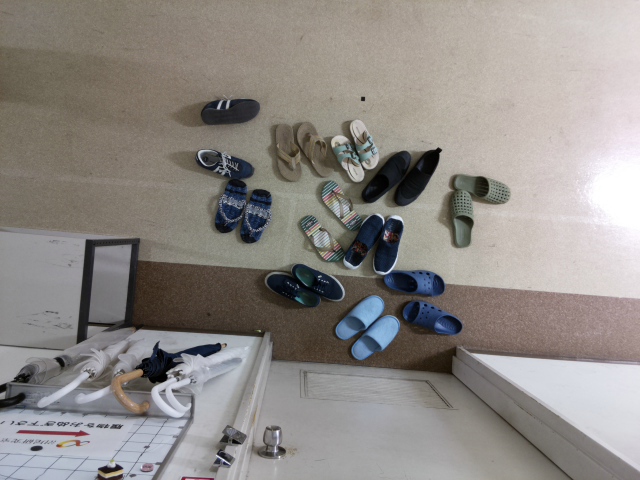Copy of Copy of Copy of Copy of Copy of Copy of Copy of sandal: (239, 188, 272, 243)
Copy of Copy of Copy of Copy of Copy of Copy of Copy of shoes: (264, 271, 319, 307)
Copy of Copy of Copy of Copy of Copy of Copy of sandal: (214, 179, 247, 233)
Copy of Copy of Copy of Copy of Copy of Copy of shoes: (290, 262, 346, 303)
Copy of Copy of Copy of Copy of Copy of sandal: (274, 123, 302, 180)
Copy of Copy of Copy of Copy of Copy of shoes: (342, 213, 385, 270)
Copy of Copy of Copy of Copy of Copy of slipper: (351, 314, 400, 360)
Copy of Copy of Copy of Copy of sandal: (295, 121, 334, 177)
Copy of Copy of Copy of Copy of shoes: (372, 213, 404, 275)
Copy of Copy of Copy of Copy of slipper: (334, 294, 384, 340)
Copy of Copy of Copy of sandal: (348, 118, 379, 170)
Copy of Copy of Copy of shoes: (393, 146, 442, 206)
Copy of Copy of Copy of slipper: (452, 174, 511, 204)
Copy of Copy of sandal: (329, 134, 364, 183)
Copy of Copy of shoes: (360, 150, 411, 203)
Copy of Copy of slipper: (448, 189, 475, 248)
Copy of sandal: (321, 179, 362, 230)
Copy of shoes: (194, 147, 256, 179)
Copy of slipper: (401, 299, 463, 334)
sandal: (299, 214, 344, 262)
shoes: (200, 98, 260, 126)
slipper: (382, 269, 444, 296)
